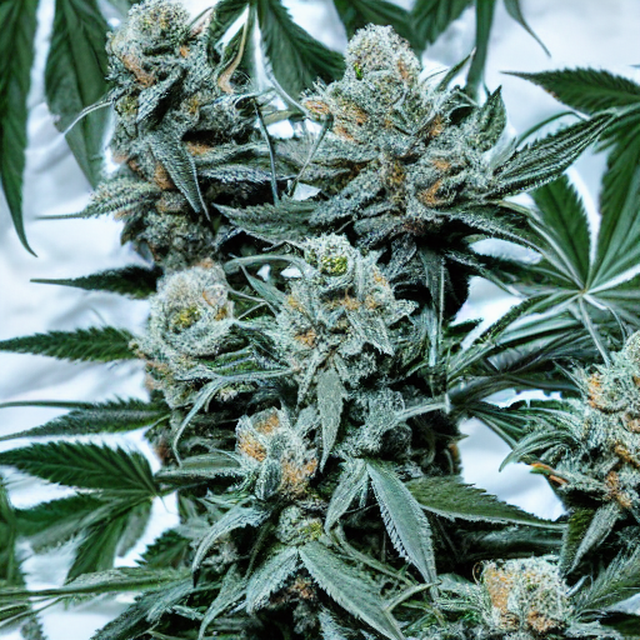Marijuana Plant: (0, 0, 639, 585)
